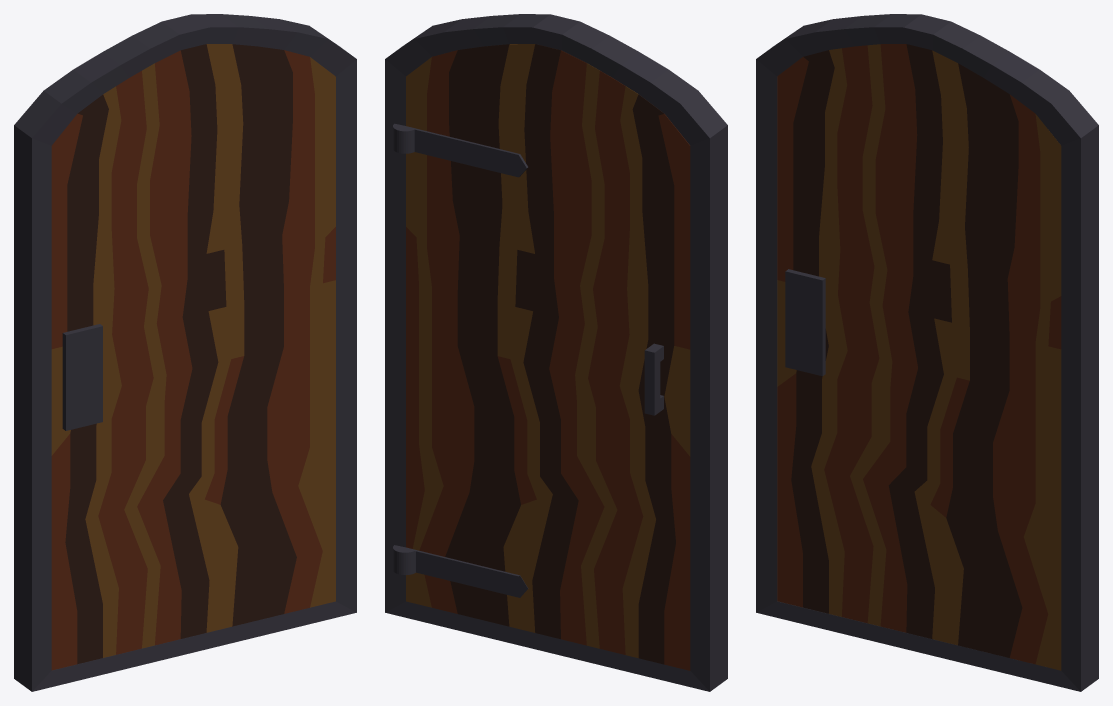
File: Door.fbx
The picture shows the model from 3 angles, left to right: view 1: azimuth 30°, elevation 25°; view 2: azimuth 150°, elevation 25°; view 3: azimuth 330°, elevation 25°; orthographic projection.
Parts seen in each view (by area): view 1: Door, Frame, Cube; view 2: Door, Frame, TopHinge, BottomHinge, Cylinder; view 3: Door, Frame, Cube.
Boxes of the visible parts, x1,y1,x2,y2 form: Door: (51,44,335,670); Frame: (14,14,356,691); Cube: (62,324,102,430); Door: (406,44,690,670); Frame: (385,14,727,691); TopHinge: (393,123,528,177); BottomHinge: (393,545,528,597); Cylinder: (644,343,663,415); Door: (777,44,1061,670); Frame: (756,14,1098,691); Cube: (785,269,825,376).
Size of the model in its own units: 104 by 191 by 16.13.
